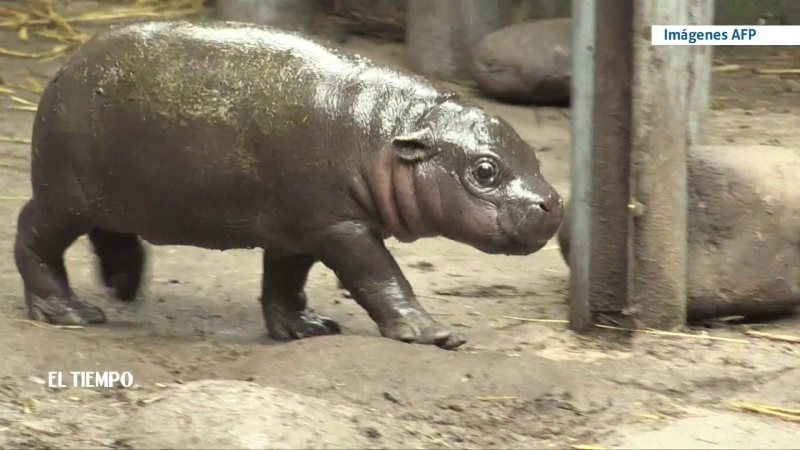hipopotamo: (10, 12, 578, 352)
